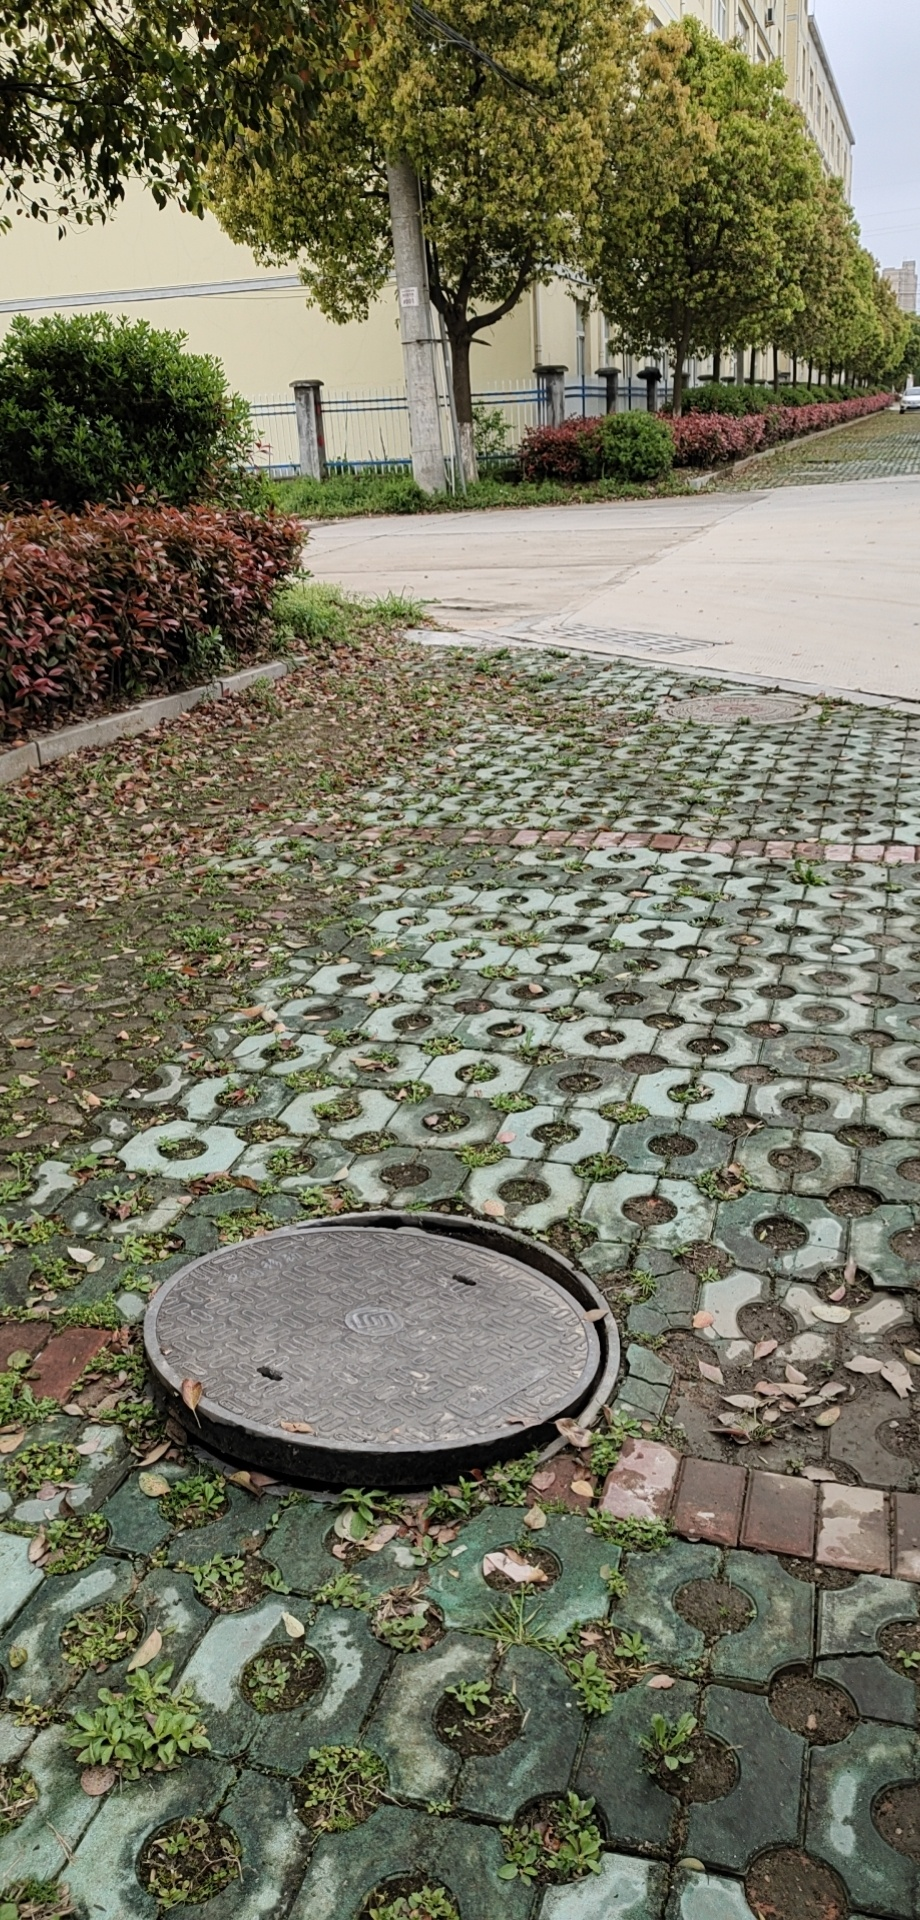uncovered: (143, 1218, 619, 1505)
